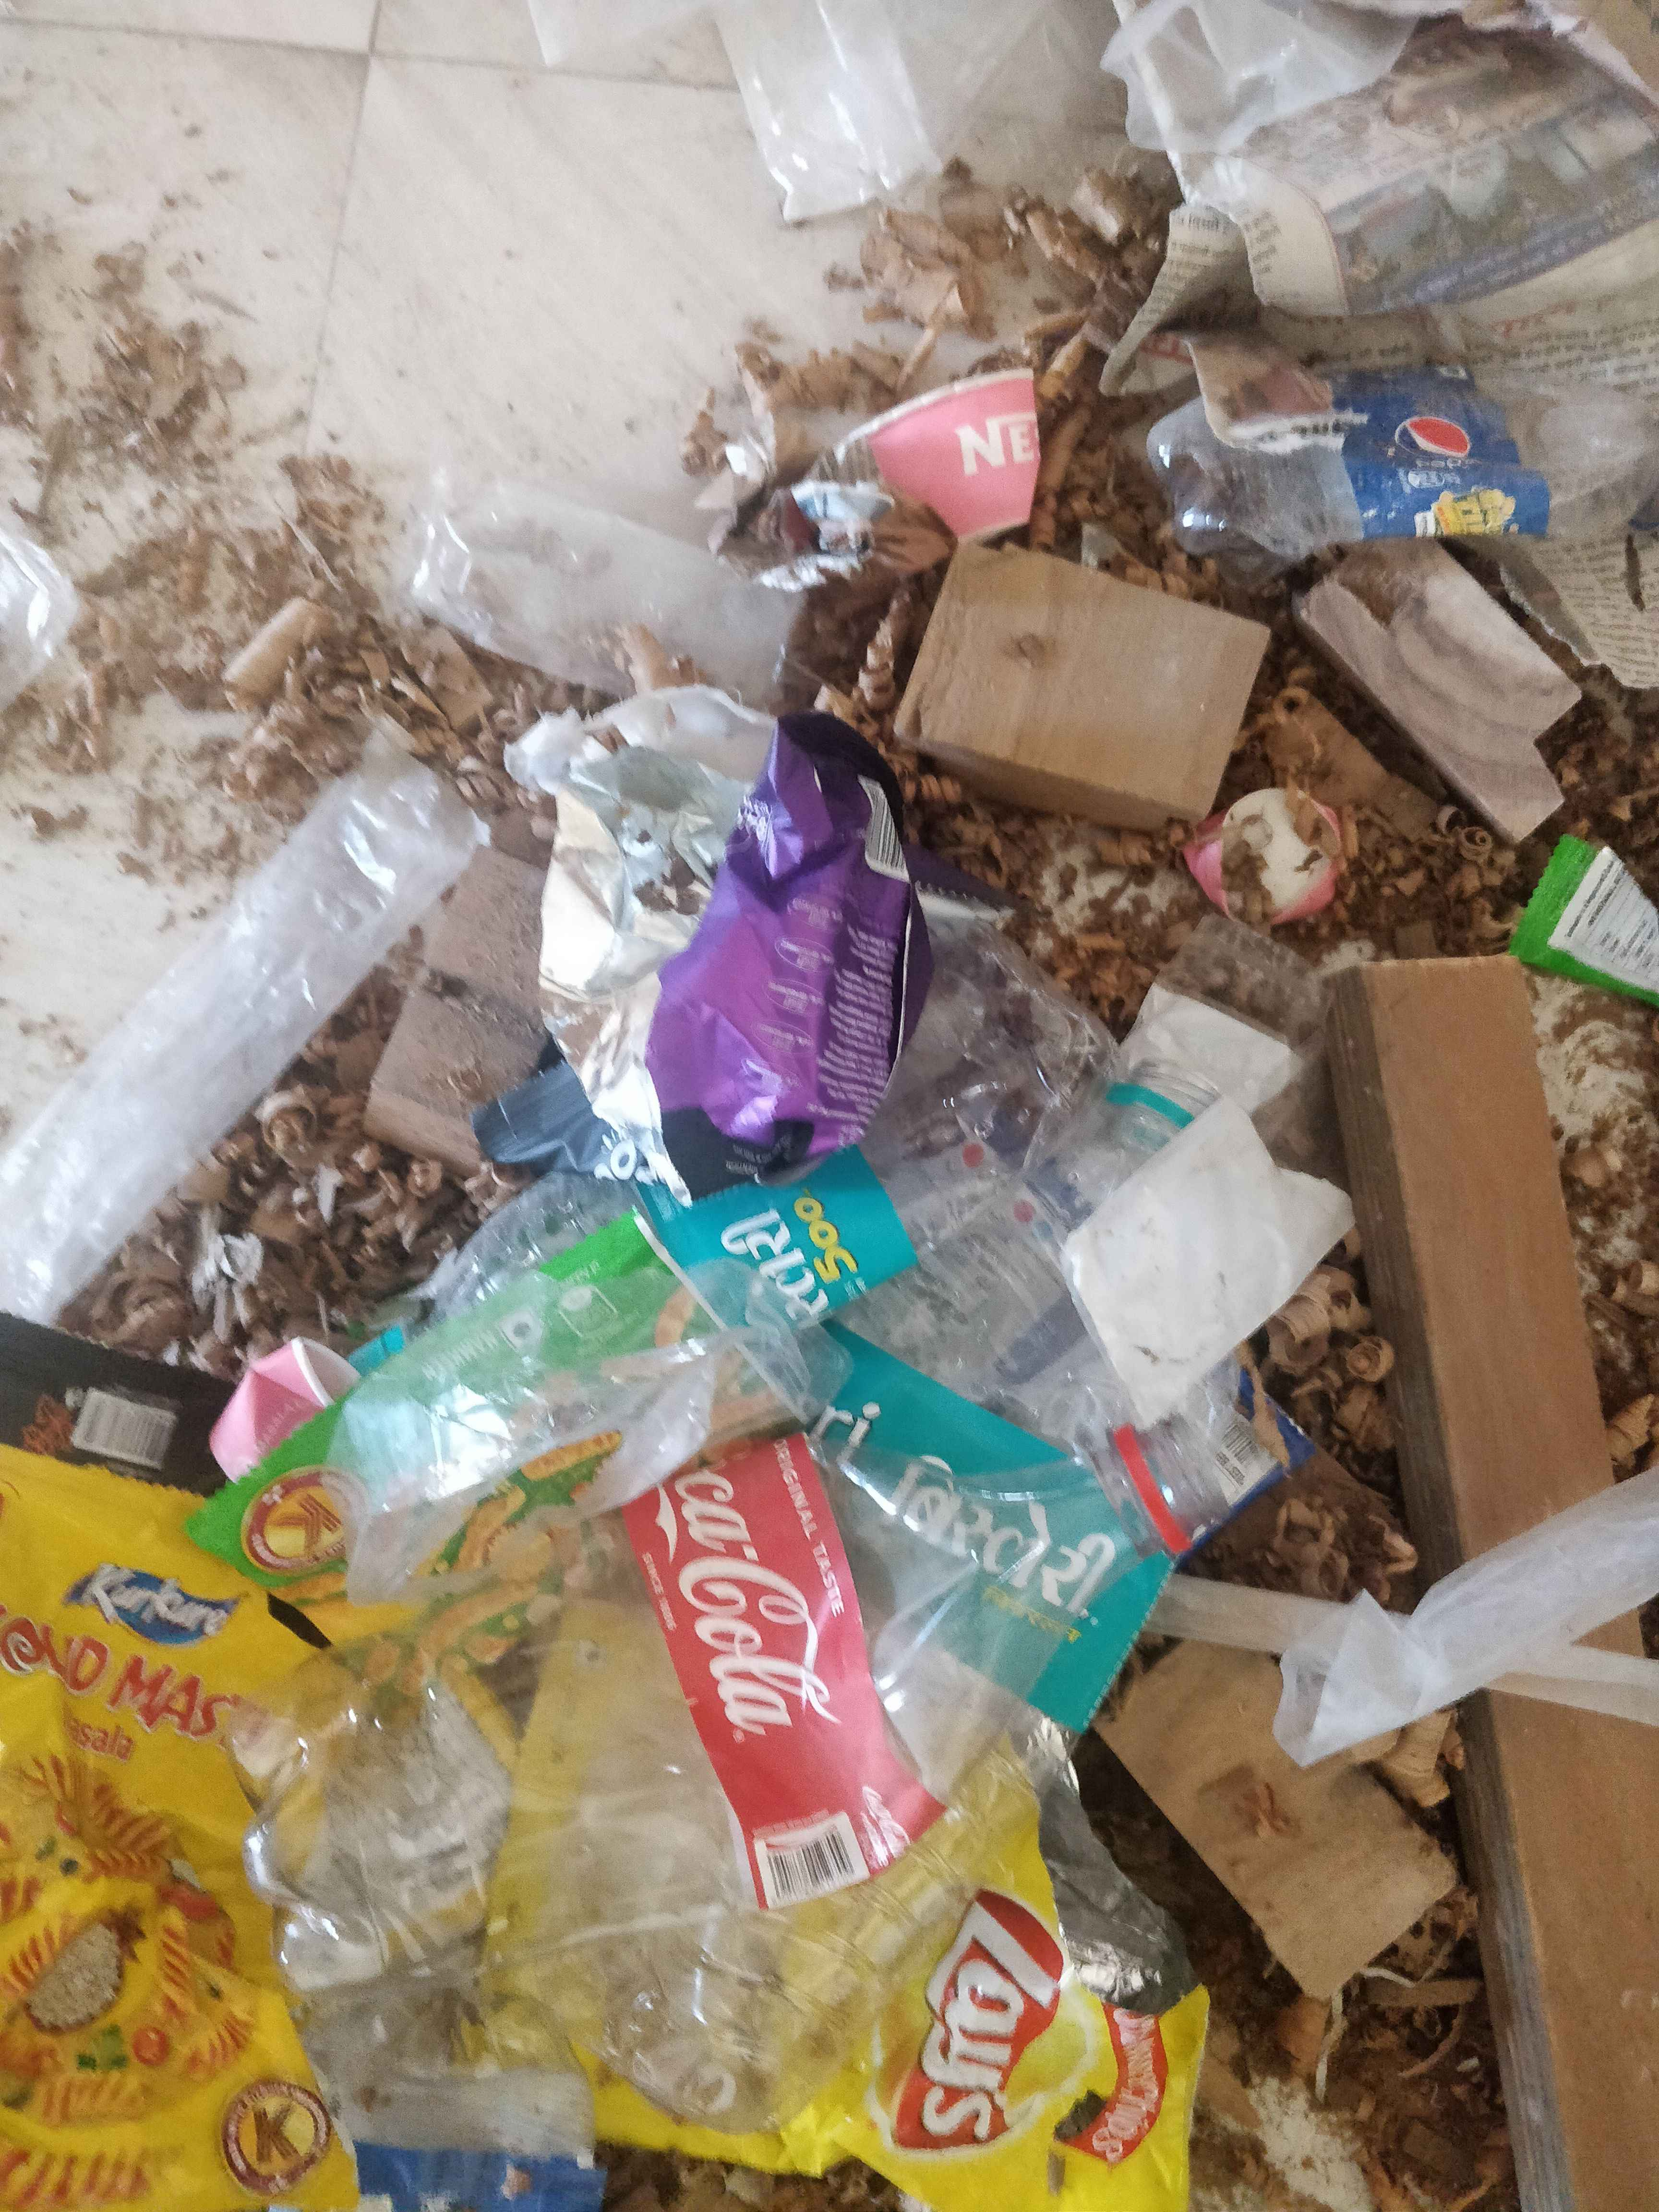Bisleri: (741, 1313, 1148, 1677), (706, 1141, 936, 1317)
Coca-Cola: (645, 1447, 894, 1834)
Lays: (864, 1876, 1131, 2170)
kurkure: (71, 1526, 274, 1649)
pepsi: (1361, 383, 1532, 535), (355, 2149, 573, 2212)
